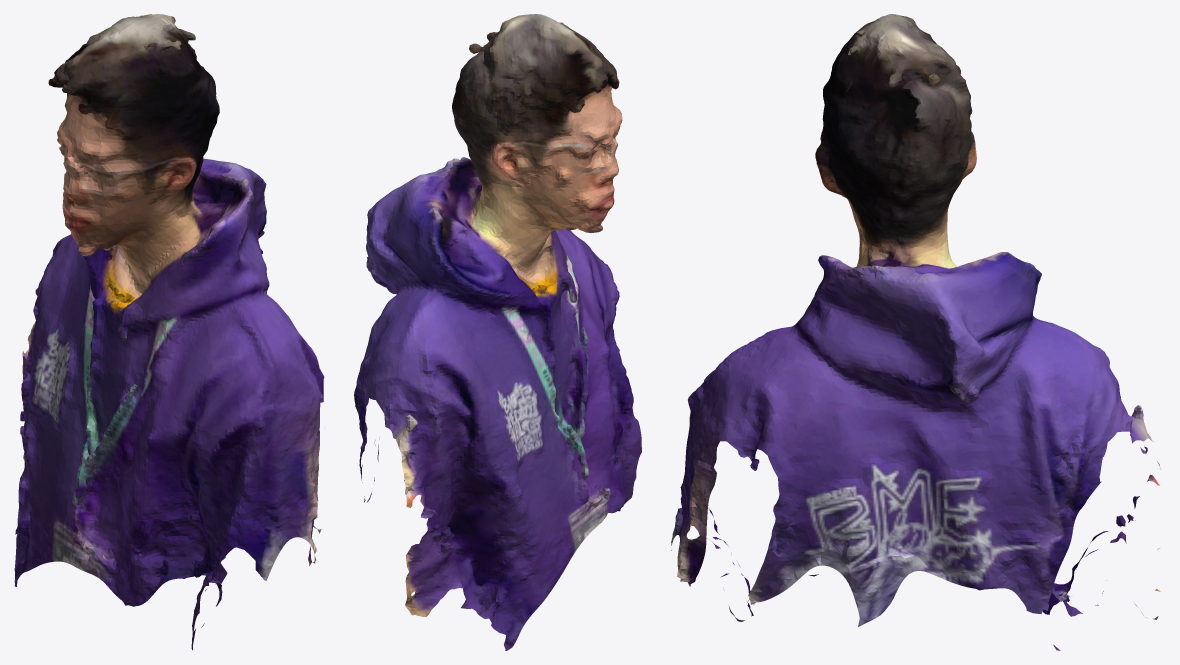
Rendered from input.glb.
The picture shows the model from 3 angles, left to right: view 1: azimuth 30°, elevation 25°; view 2: azimuth 150°, elevation 25°; view 3: azimuth 270°, elevation 25°; orthographic projection. The views are drawn at different scales.
Bounding box in the file's own units: 0.3187 × 0.7925 × 0.5451.
Materials: 1 (1 with a texture image).
